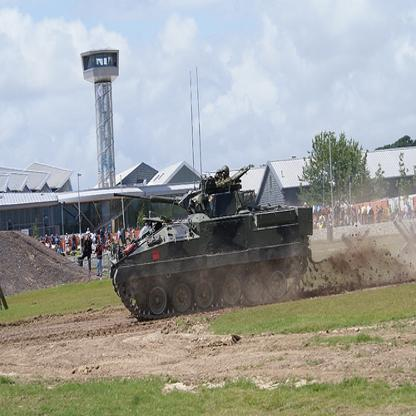Tank: (108, 164, 315, 319)
